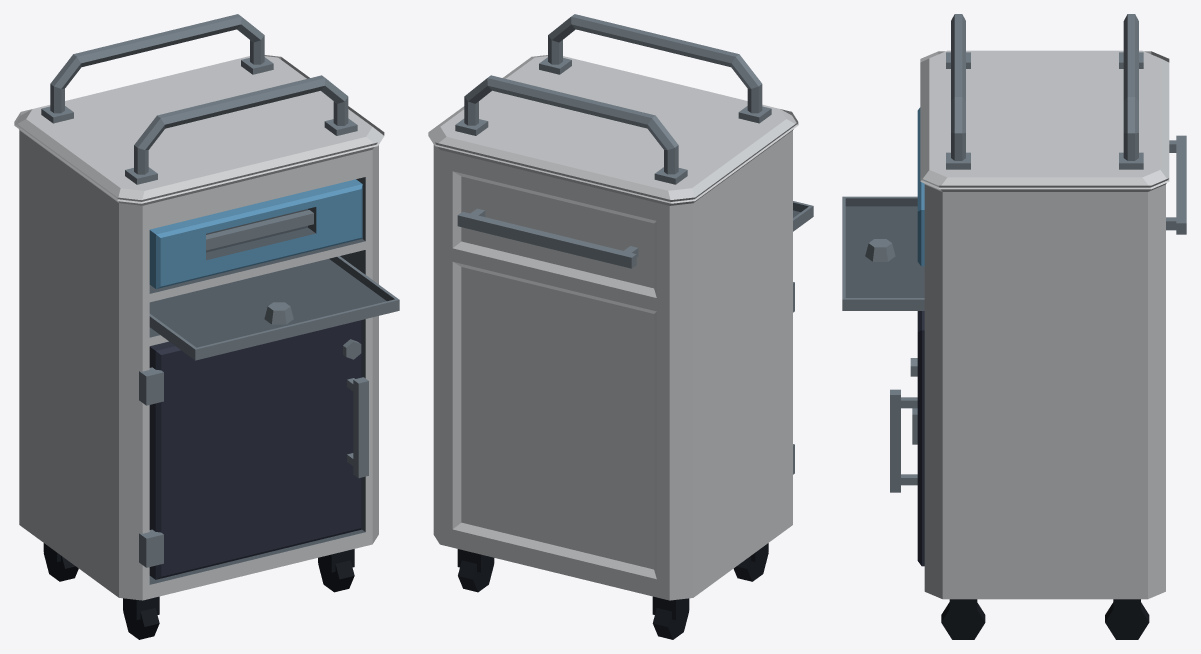
Rendered from bedside-locker-0e1723.glb.
The picture shows the model from 3 angles, left to right: view 1: azimuth 30°, elevation 25°; view 2: azimuth 150°, elevation 25°; view 3: azimuth 270°, elevation 25°; orthographic projection. The views are drawn at different scales.
Parts seen in each view (by area): view 1: bedside-locker, door, tray, drawer-1; view 2: bedside-locker; view 3: bedside-locker, tray, door, drawer-1.
Part boxes in pixels (box(x1,y1,x2,y2)): bedside-locker: box(14, 14, 384, 639); door: box(139, 320, 368, 579); tray: box(149, 256, 399, 360); drawer-1: box(149, 179, 362, 288); bedside-locker: box(428, 14, 798, 639); bedside-locker: box(920, 14, 1186, 639); tray: box(842, 196, 924, 310); door: box(890, 311, 924, 566); drawer-1: box(917, 107, 924, 266).
Bounding box in the file's own units: 0.46 × 0.8485 × 0.498.
